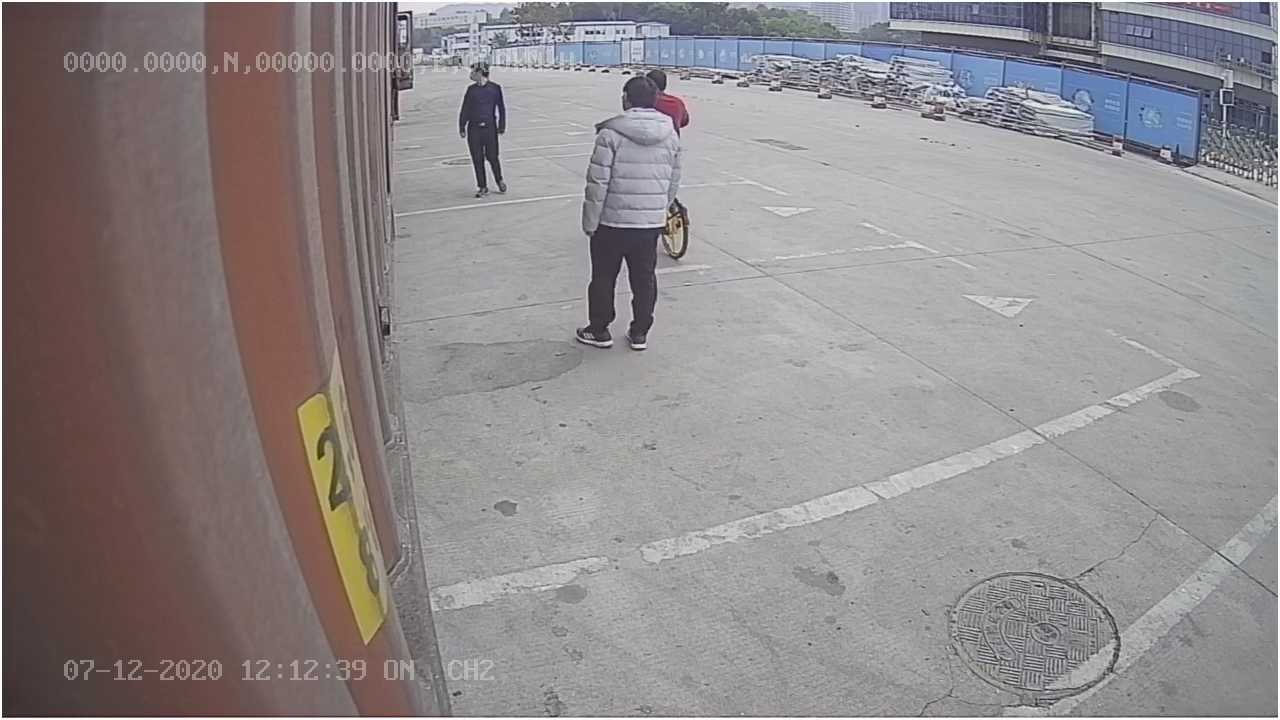person: (571, 75, 682, 354)
